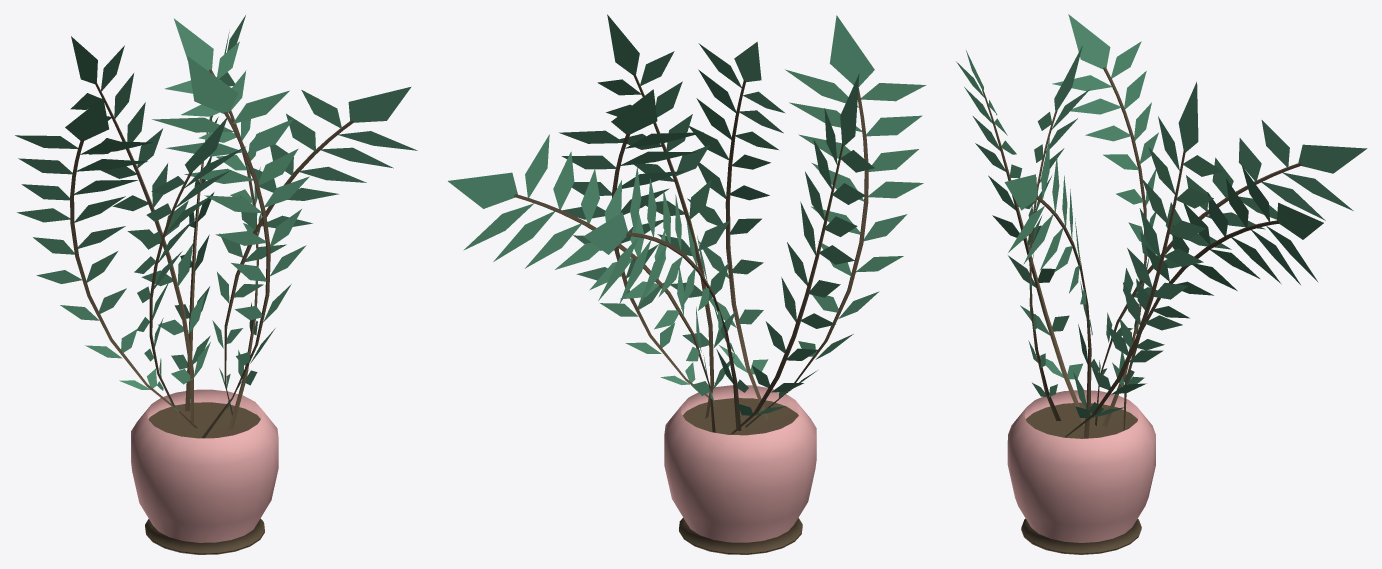
The model's file is plante_verte.fbx.
3 views of the same model, side by side, from view 1: azimuth 30°, elevation 25°; view 2: azimuth 150°, elevation 25°; view 3: azimuth 270°, elevation 25° (orthographic). The views are drawn at different scales.
Visible parts, largest first — view 1: planteVerte; view 2: planteVerte; view 3: planteVerte.
Part boxes in pixels (box(x1,y1,x2,y2)): planteVerte: box(15, 15, 417, 554); planteVerte: box(448, 14, 926, 554); planteVerte: box(956, 14, 1367, 554).
Size of the model in its own units: 51.73 by 70.04 by 54.91.
